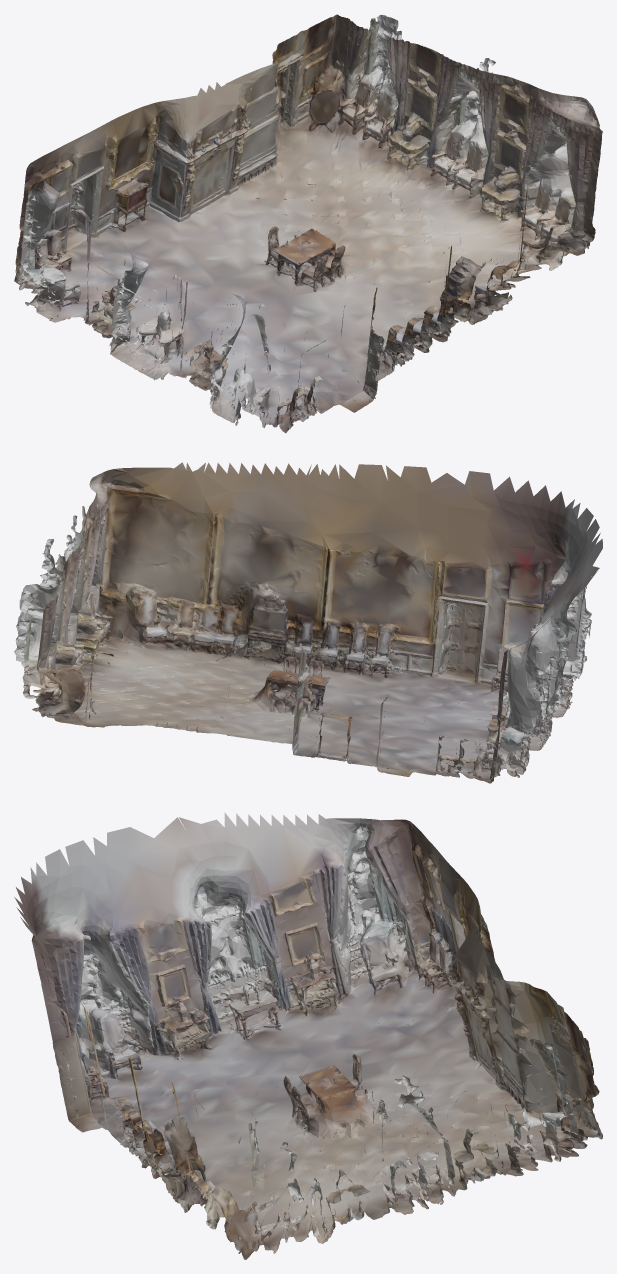
The model's file is rebuilt-colab.glb.
3 renders of one model, top to bottom at view 1: azimuth 30°, elevation 25°; view 2: azimuth 150°, elevation 25°; view 3: azimuth 270°, elevation 25°, orthographic. The views are drawn at different scales.
Parts seen in each view (by area): view 1: mesh.ply; view 2: mesh.ply; view 3: mesh.ply.
Part boxes in pixels (x1,y1,x2,y2): mesh.ply: [14, 14, 602, 433]; mesh.ply: [14, 462, 602, 783]; mesh.ply: [14, 812, 602, 1259].
Bounding box in the file's own units: 31.35 × 10.72 × 27.08.
